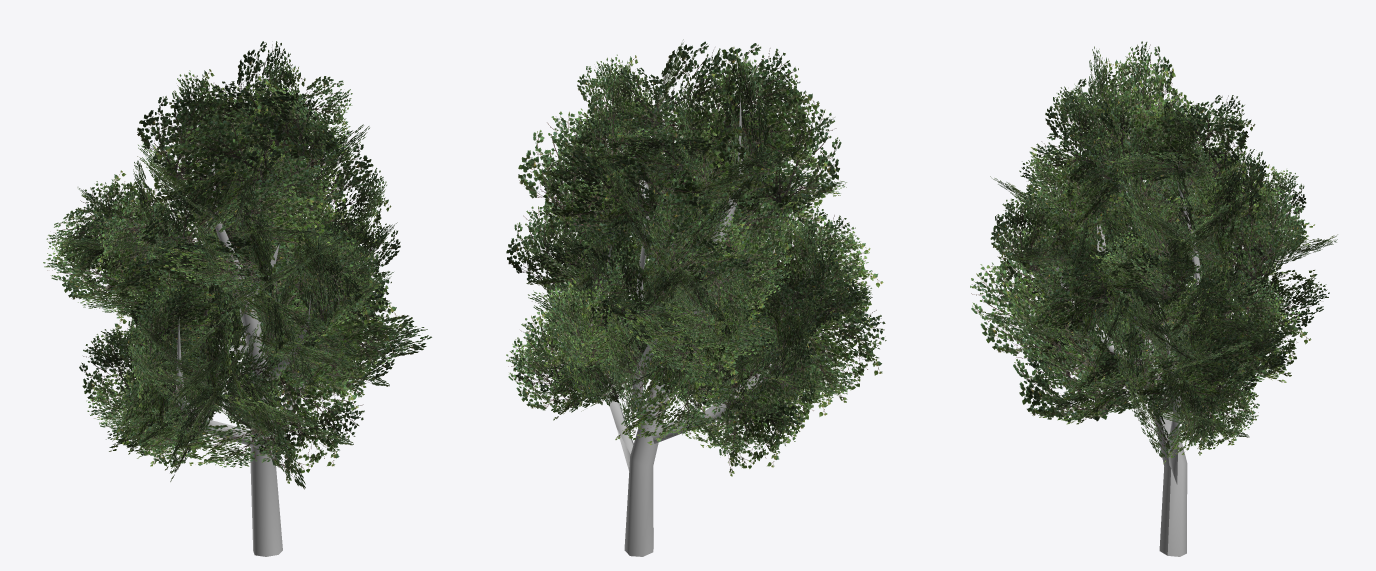
File: NormalTree.fbx
3 views of the same model, side by side, from view 1: azimuth 30°, elevation 25°; view 2: azimuth 150°, elevation 25°; view 3: azimuth 270°, elevation 25° (orthographic). The views are drawn at different scales.
Visible parts, largest first — view 1: NormalTree; view 2: NormalTree; view 3: NormalTree.
Part boxes in pixels (left/top/right/bottom): NormalTree: left=43, top=41, right=431, bottom=556; NormalTree: left=506, top=39, right=886, bottom=556; NormalTree: left=970, top=41, right=1337, bottom=556.
Bounding box in the file's own units: 2168 × 3129 × 2420.
